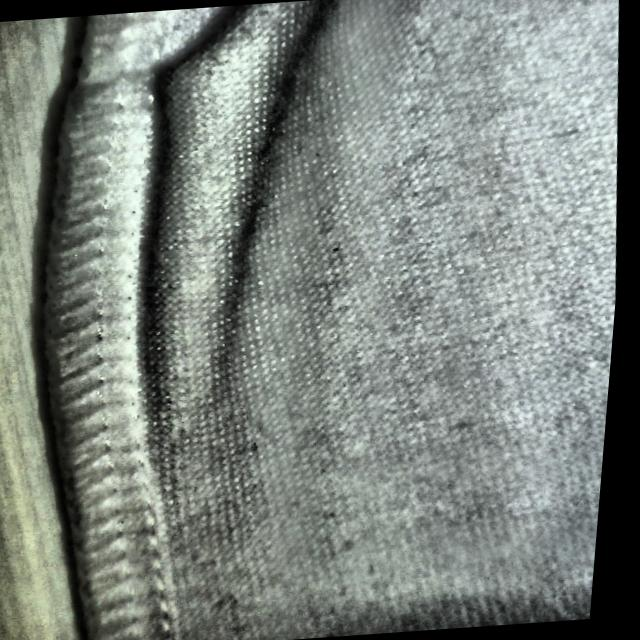seam: (45, 2, 291, 190)
